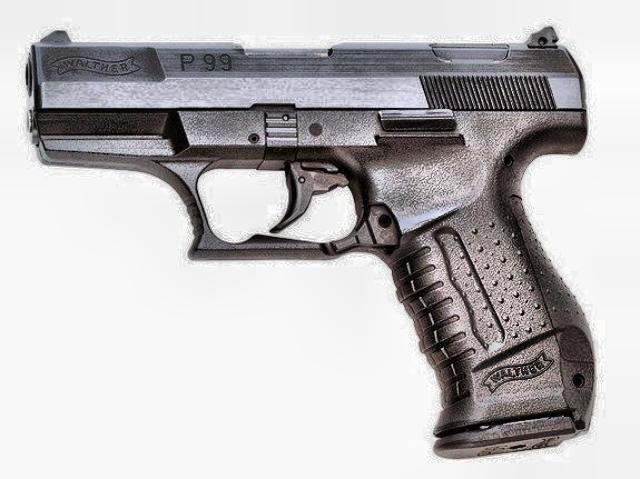pistol: (21, 24, 595, 459)
